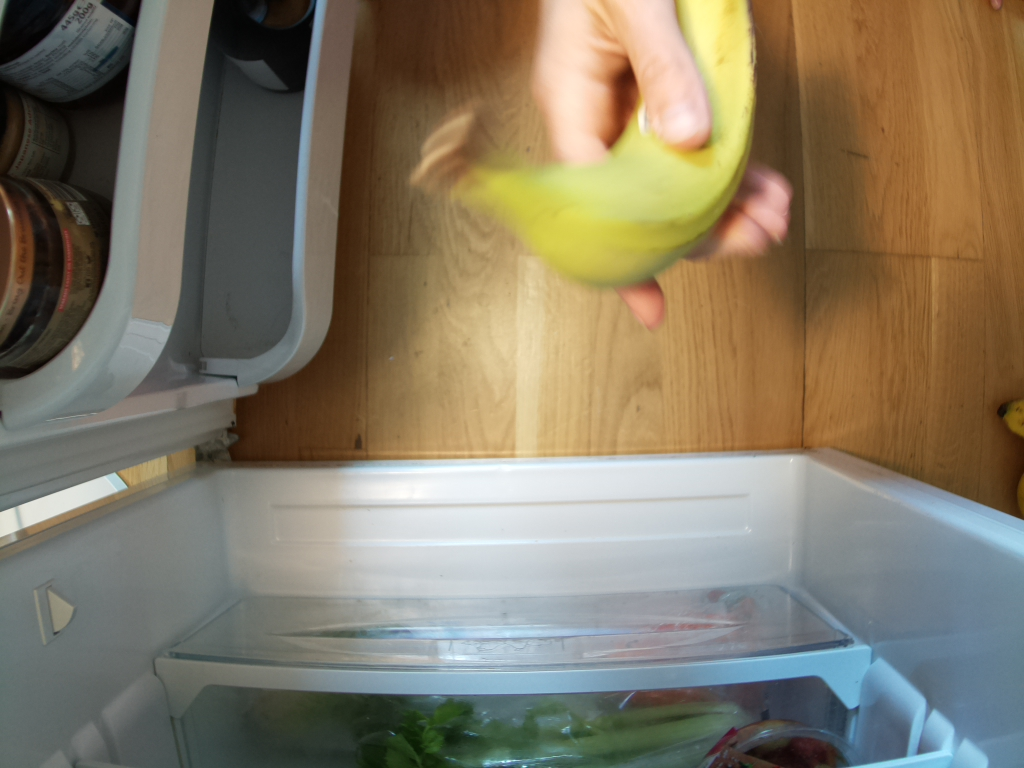banana-unripe: (412, 1, 754, 294)
